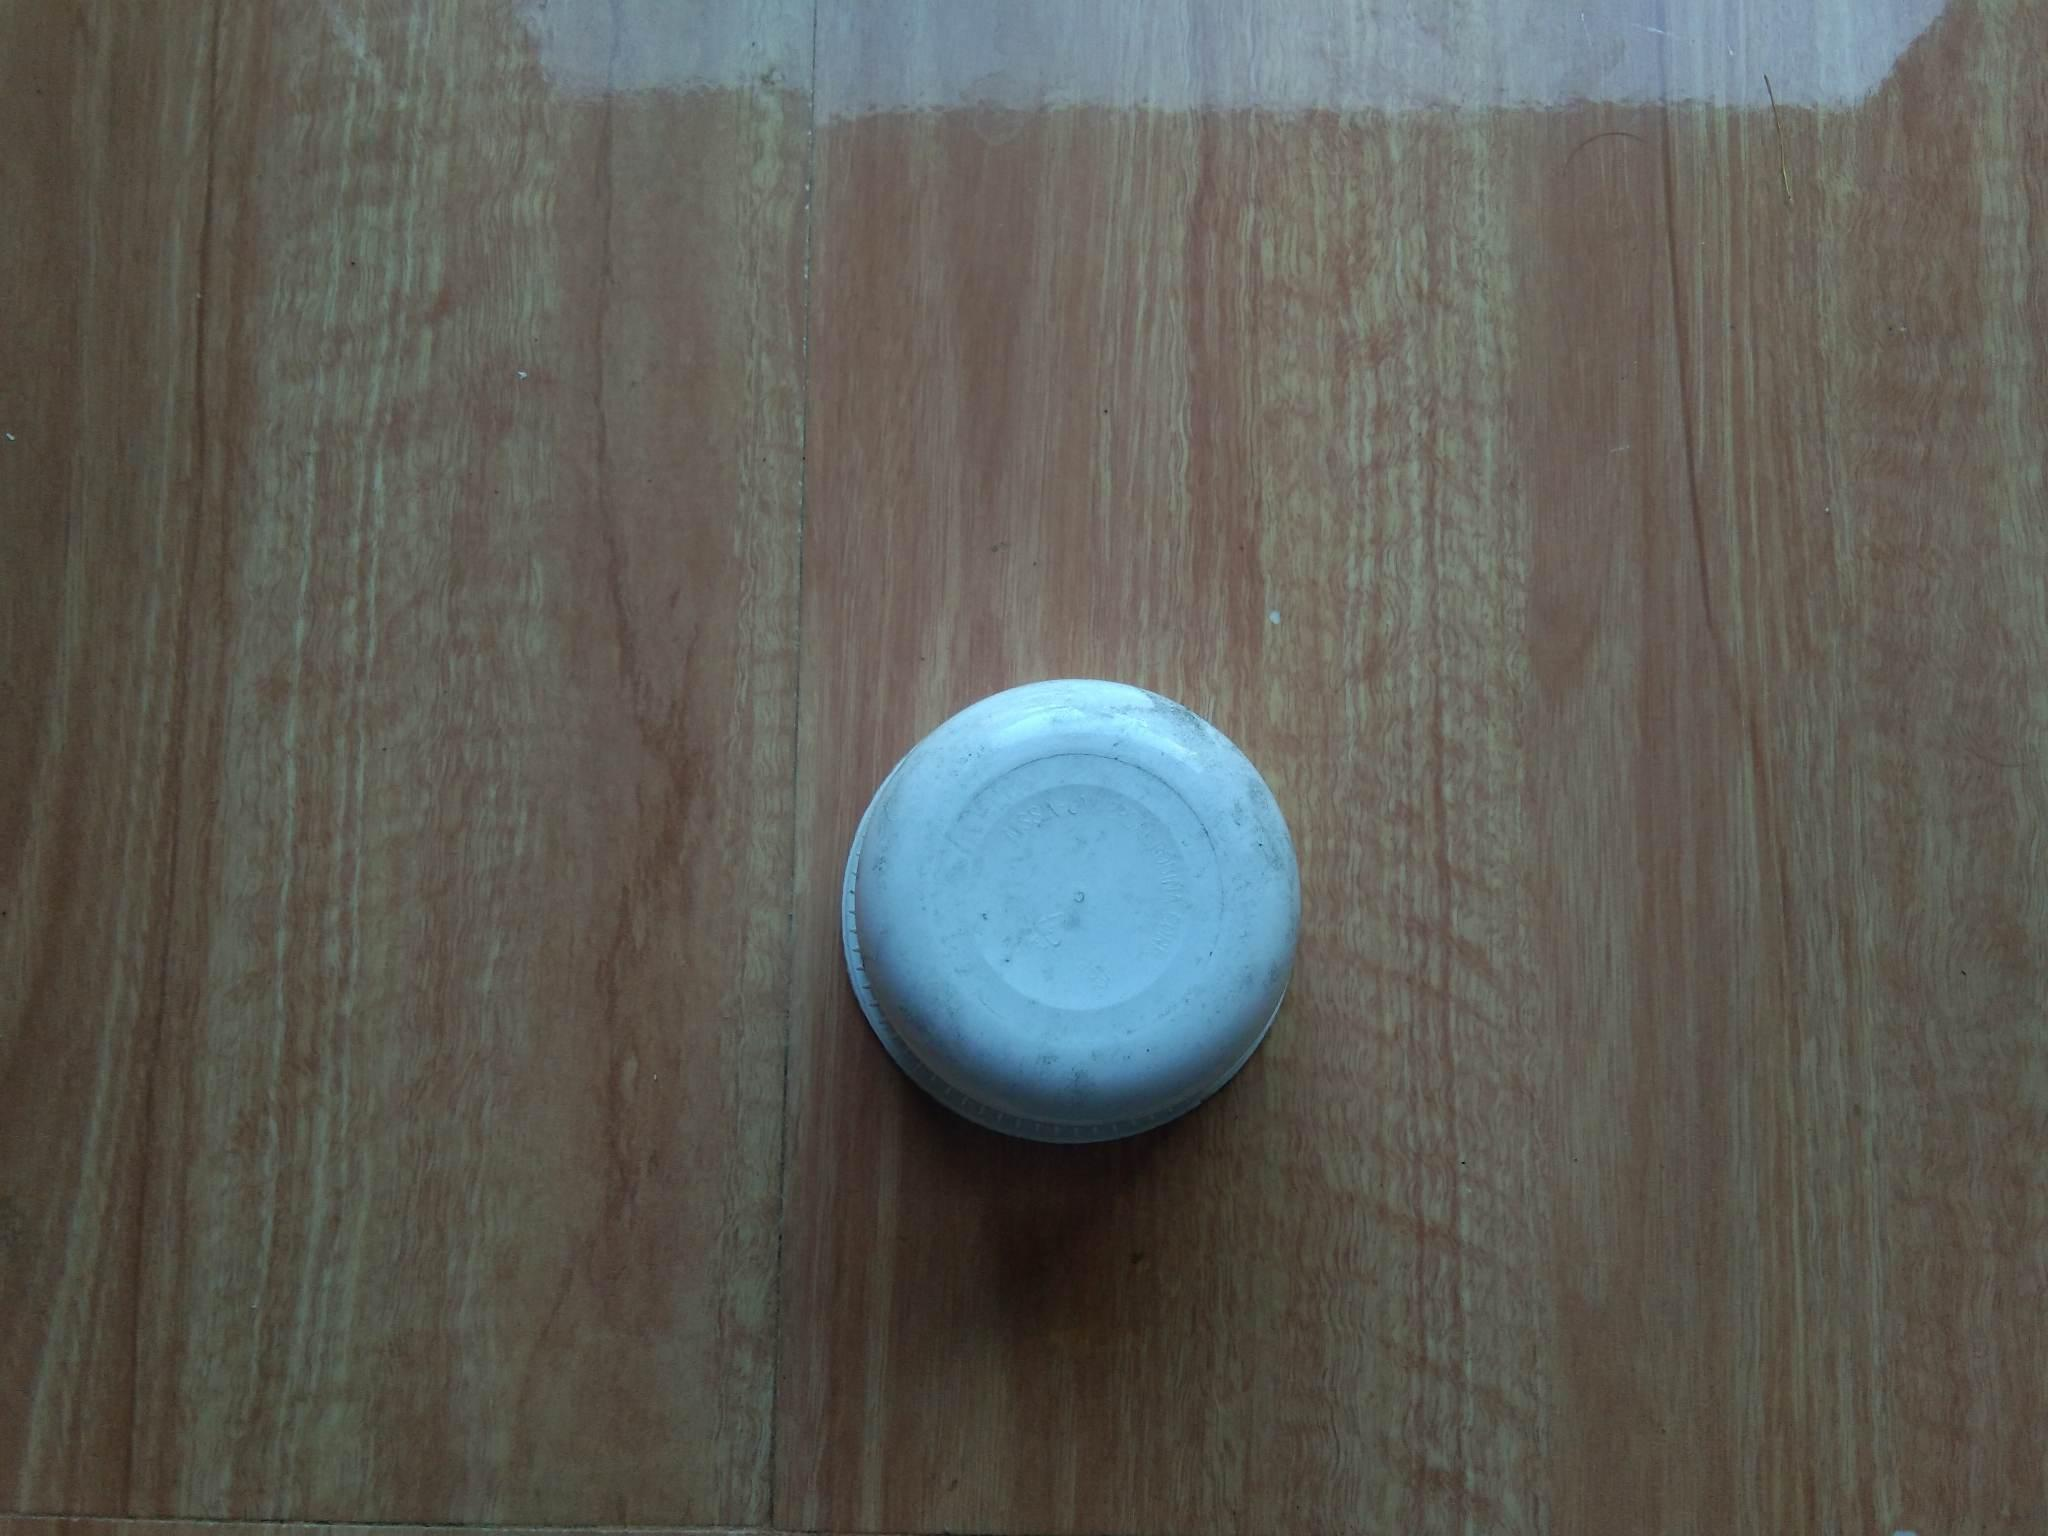plastic: (789, 500, 1388, 1257)
